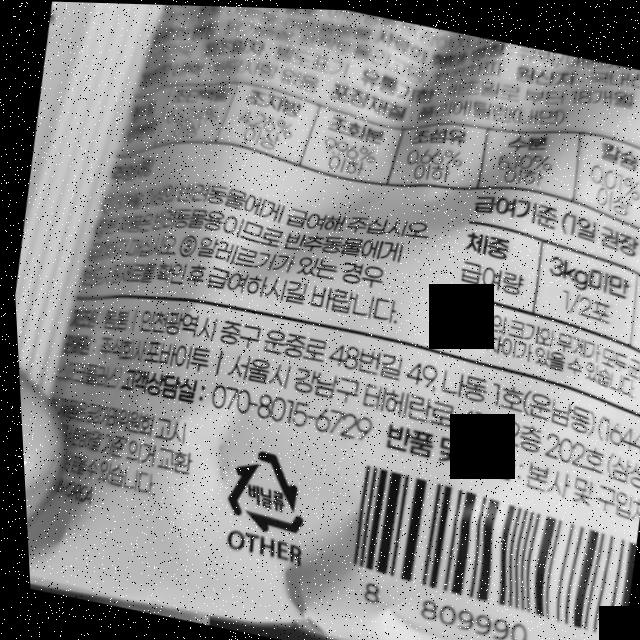Vinyl: (207, 436, 312, 541)
